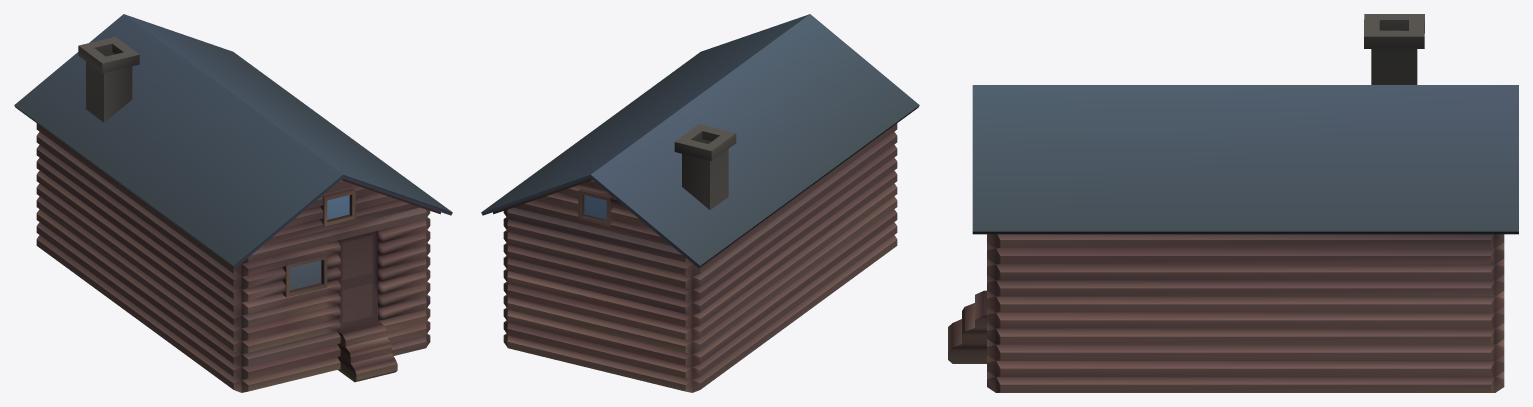
File: Residential_LogCabin_alt01.glb
3 renders of one model, left to right at view 1: azimuth 30°, elevation 25°; view 2: azimuth 150°, elevation 25°; view 3: azimuth 270°, elevation 25°, orthographic. The views are drawn at different scales.
Parts seen in each view (by area): view 1: base.130, windowRefl.101; view 2: base.130, windowRefl.101; view 3: base.130.
Part boxes in pixels (x1,y1,x2,y2): base.130: [14, 14, 452, 392]; windowRefl.101: [289, 195, 349, 290]; base.130: [481, 14, 919, 392]; windowRefl.101: [584, 195, 606, 219]; base.130: [948, 14, 1518, 392].
Size of the model in its own units: 9.71 by 9.27 by 17.59.
